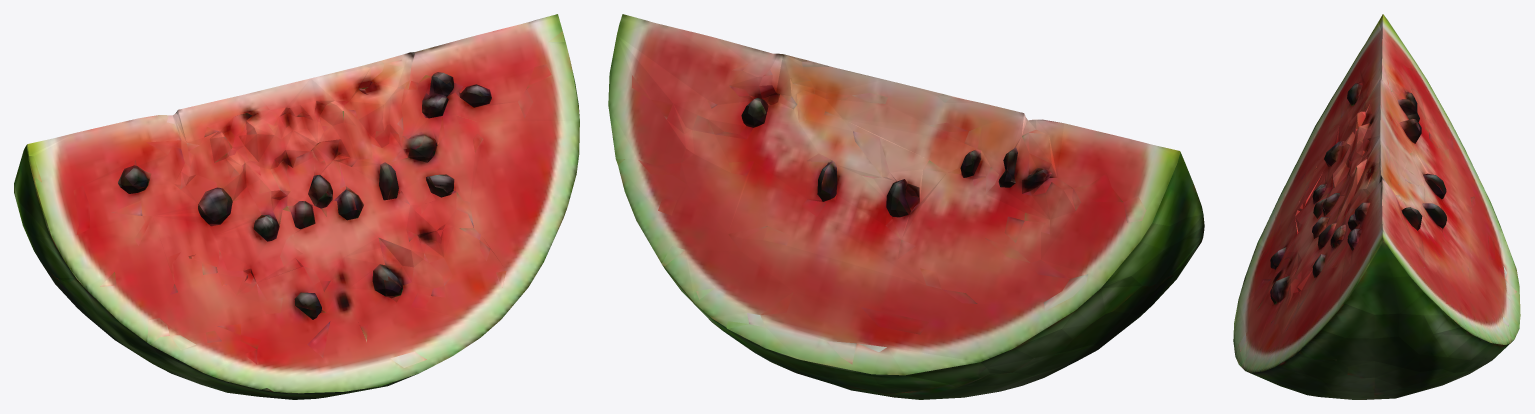
The model's file is watermelon.glb.
The picture shows the model from 3 angles, left to right: view 1: azimuth 30°, elevation 25°; view 2: azimuth 150°, elevation 25°; view 3: azimuth 270°, elevation 25°; orthographic projection. The views are drawn at different scales.
Parts seen in each view (by area): view 1: geometry_0; view 2: geometry_0; view 3: geometry_0.
Part boxes in pixels (x1,y1,x2,y2): geometry_0: (14,14,579,399); geometry_0: (608,14,1204,399); geometry_0: (1233,14,1520,399).
Bounding box in the file's own units: 0.9993 × 0.5086 × 0.5335.
1 material, 1 textured.
